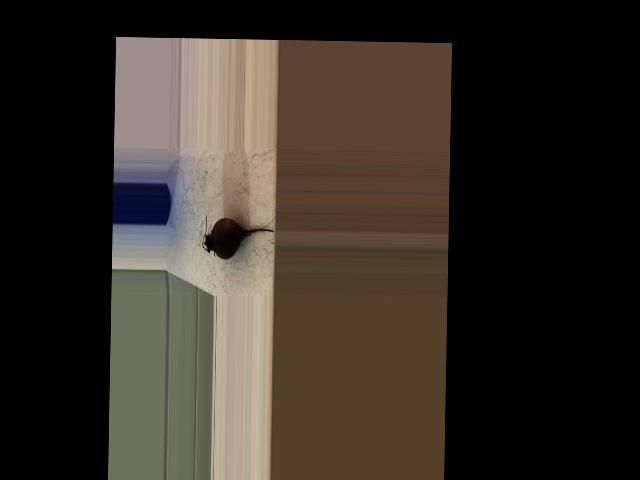beet: (202, 214, 274, 259)
